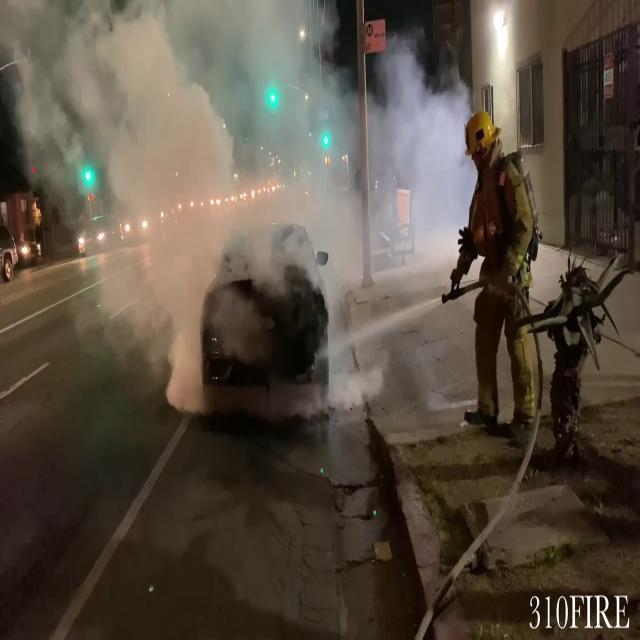Smoke: (52, 2, 470, 288)
